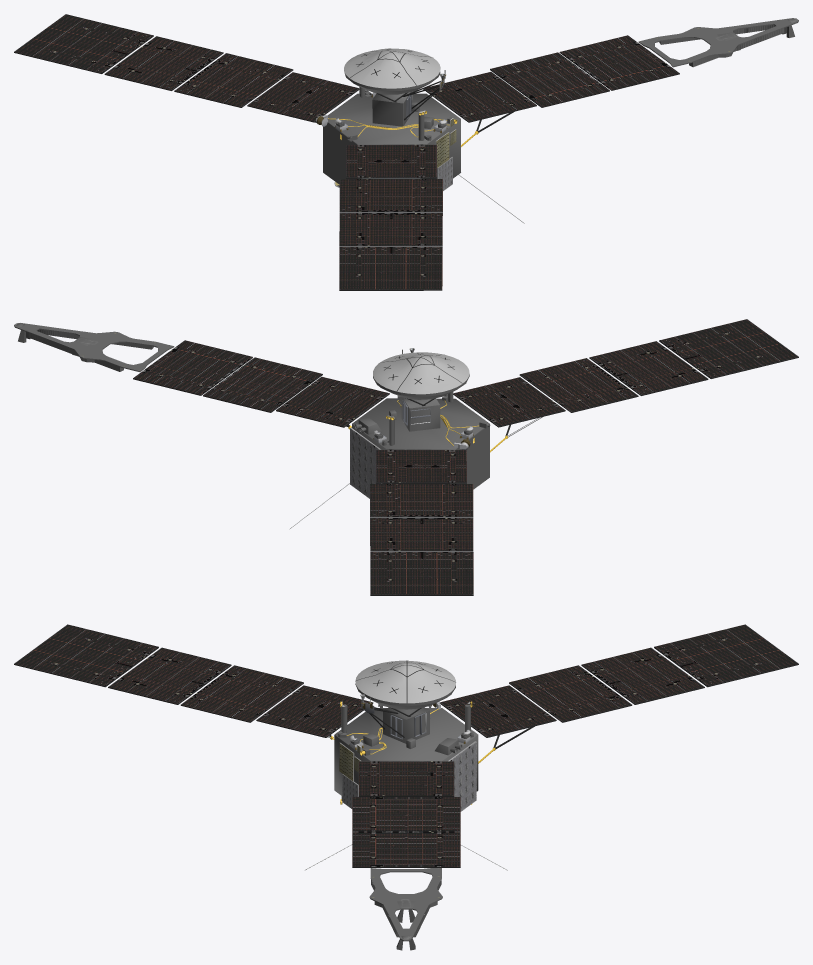
Rendered from juno.glb.
The picture shows the model from 3 angles, top to bottom: view 1: azimuth 30°, elevation 25°; view 2: azimuth 150°, elevation 25°; view 3: azimuth 270°, elevation 25°; orthographic projection. The views are drawn at different scales.
Bounding box in the file's own units: 17.65 × 4.26 × 18.54.
12 materials, 4 textured.
